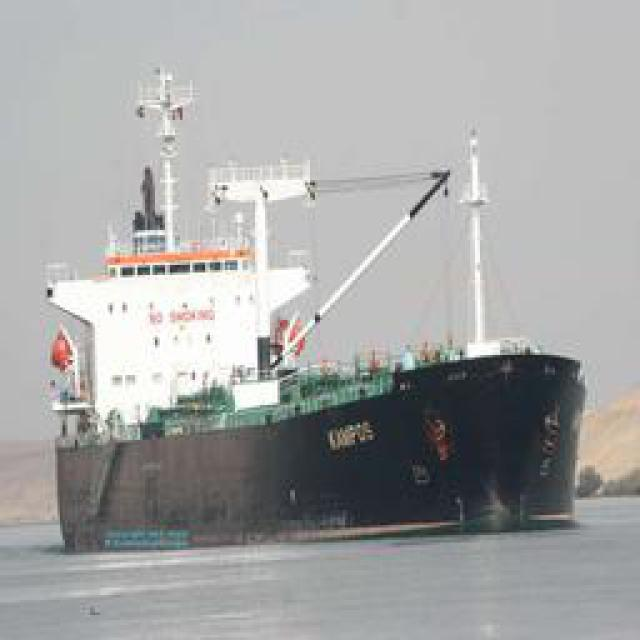Ship: (44, 81, 594, 506)
